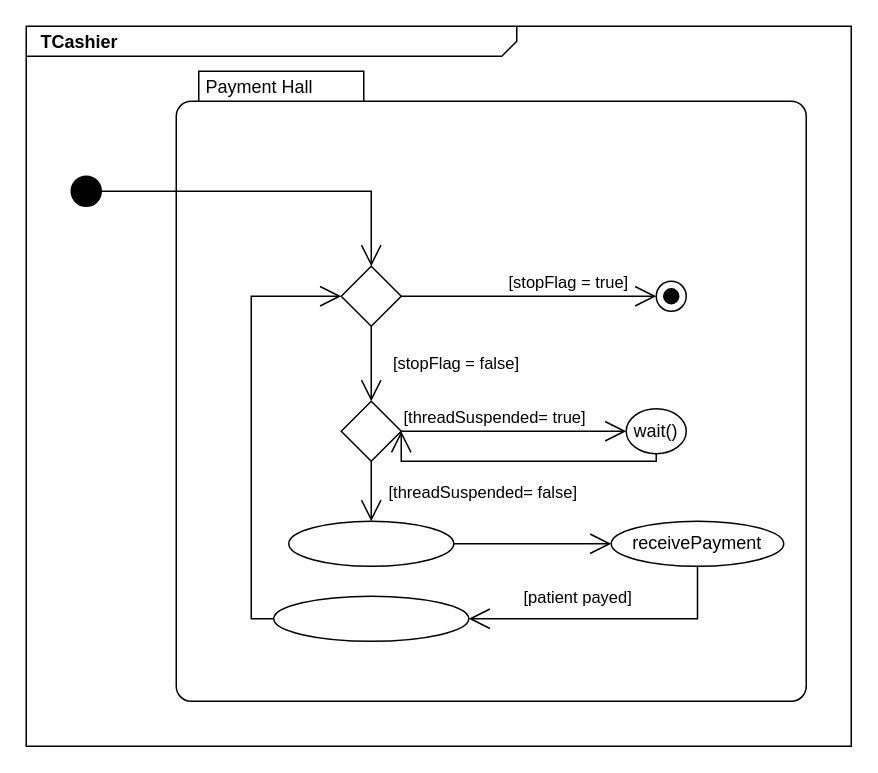
The diagram is 878 pixels wide and 773 high, and some of its shapes have lost their labels. The centre of each missing label's shape, as x and y in pixels:
waitForPatient: the point at 370,543
waitForPatientToLeave: the point at 370,618
